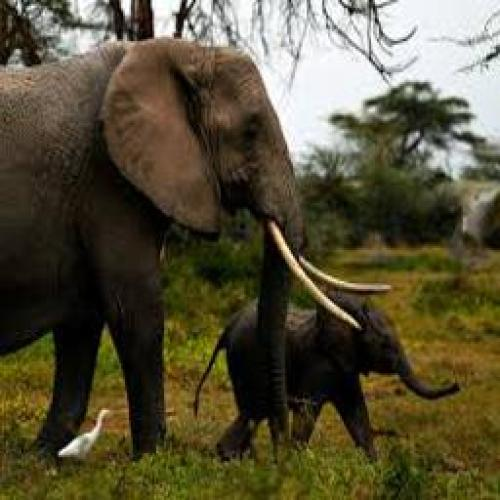african_elephant-endangered: (0, 39, 394, 476), (189, 293, 452, 462)
